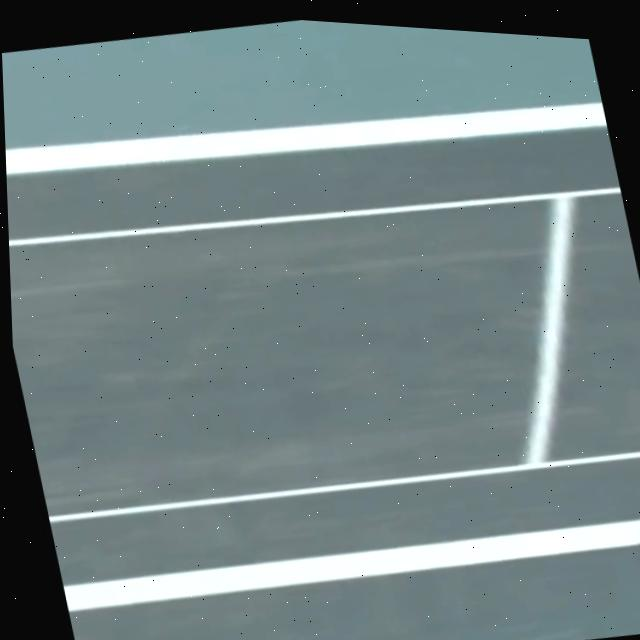center: (63, 518, 640, 610)
left: (5, 100, 606, 173)
